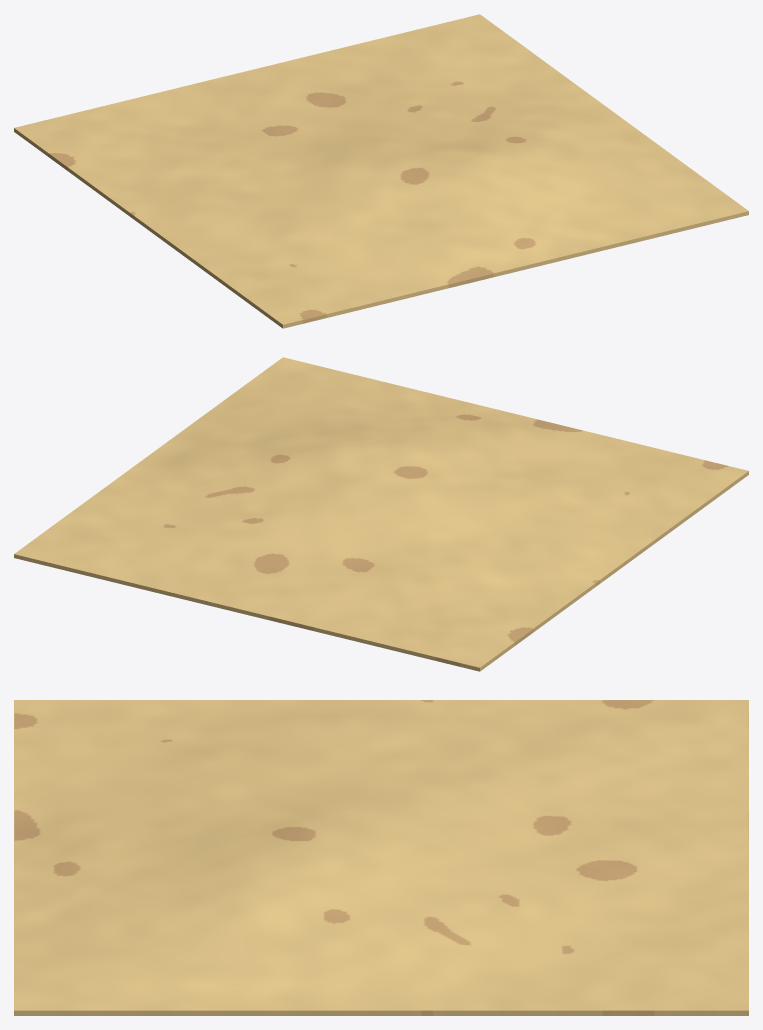
The model's file is Desert_Flat_10.obj.
3 views of the same model, one above another, from view 1: azimuth 30°, elevation 25°; view 2: azimuth 150°, elevation 25°; view 3: azimuth 270°, elevation 25° (orthographic). The views are drawn at different scales.
Bounding box in the file's own units: 10 × 0.4814 × 10.
Materials: 1 (1 with a texture image).
